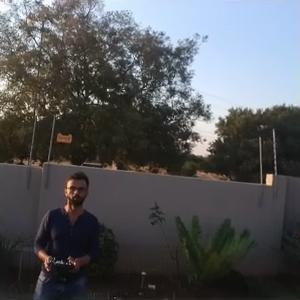follow: (26, 167, 101, 299)
